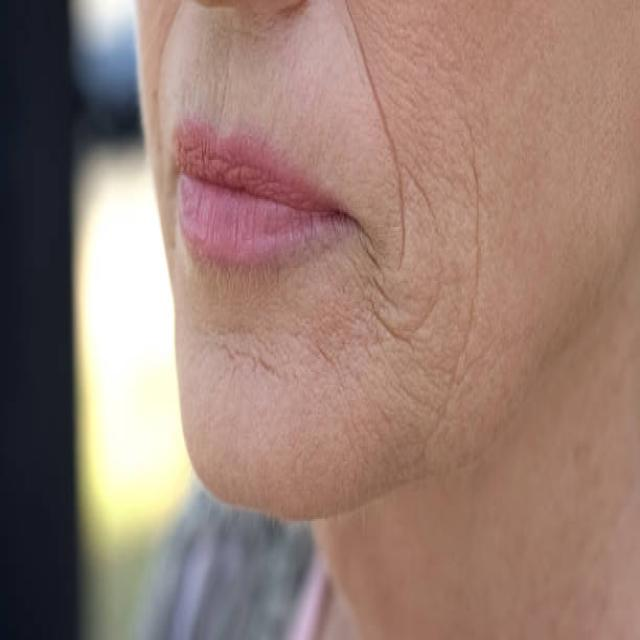Dry-Skin: (342, 10, 593, 406)
